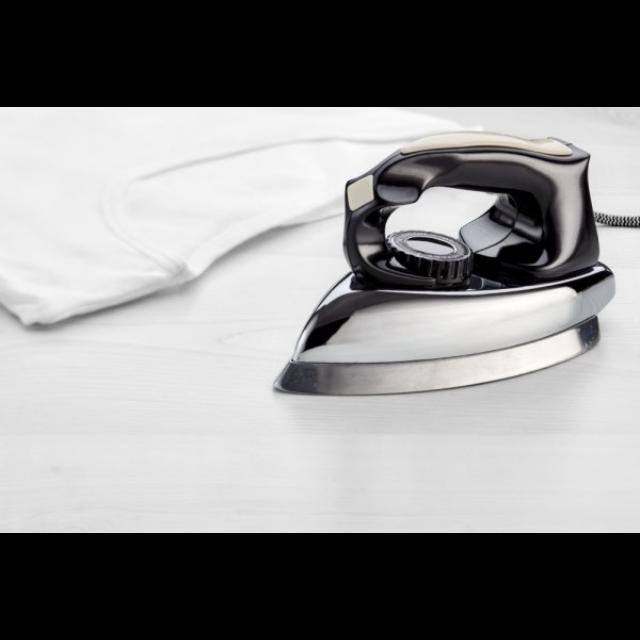Clothes-Iron: (301, 144, 605, 382)
